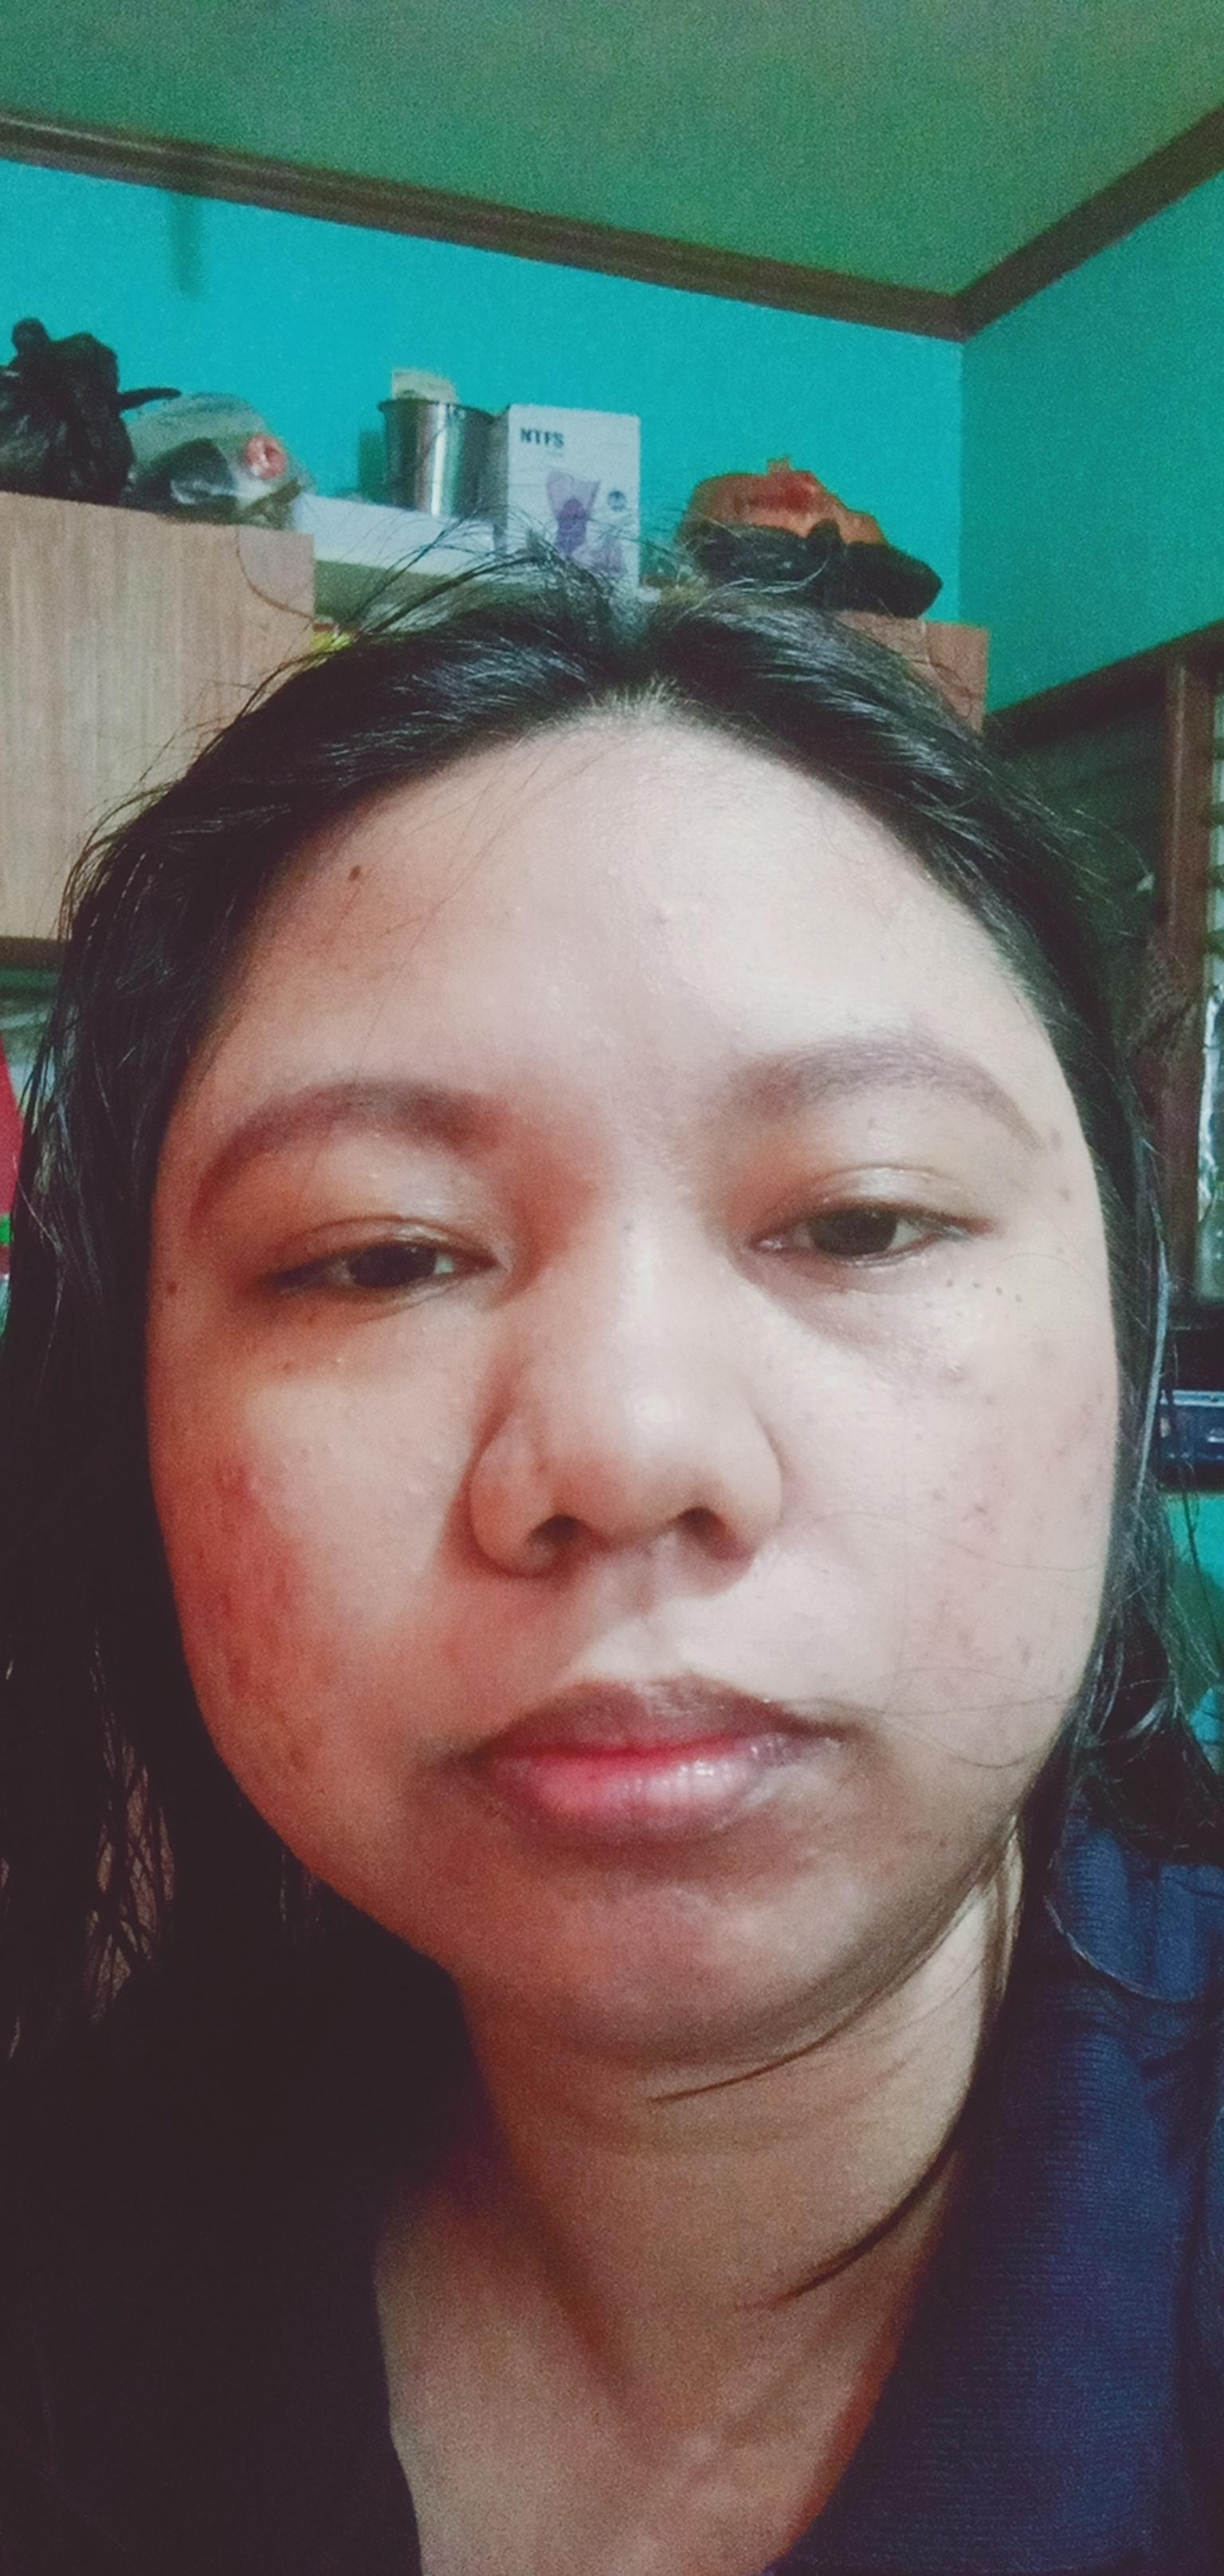Acne: (279, 1736, 334, 1805), (205, 1459, 279, 1505), (641, 899, 698, 954), (1009, 1630, 1048, 1684), (217, 1649, 255, 1702), (958, 1485, 999, 1533), (943, 1342, 974, 1388), (495, 897, 536, 930), (212, 1585, 248, 1621), (902, 1824, 940, 1856), (184, 1544, 219, 1577), (948, 1623, 979, 1659), (269, 1571, 294, 1615), (1047, 1441, 1079, 1474), (1050, 1181, 1083, 1214), (922, 1480, 955, 1511), (1040, 1120, 1068, 1155), (335, 859, 373, 884), (792, 1838, 820, 1870), (325, 1352, 350, 1372)
